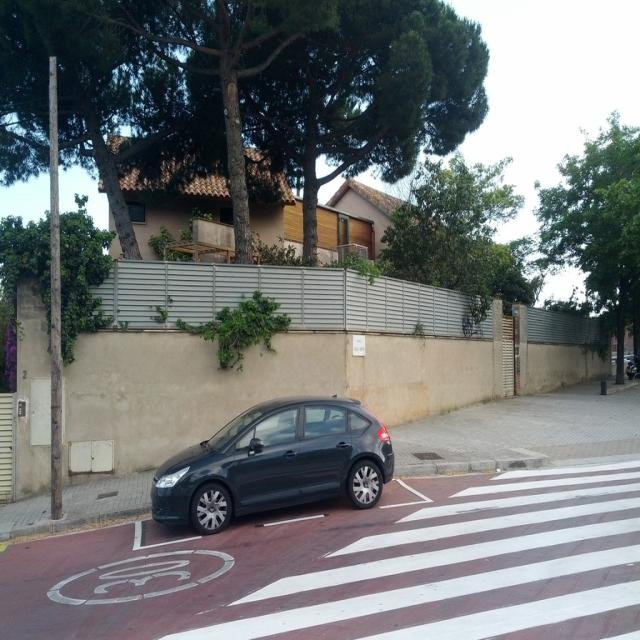car: (149, 392, 395, 533)
